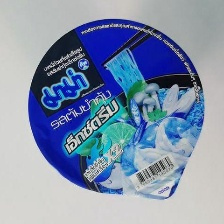paper_cup: (20, 13, 209, 205)
